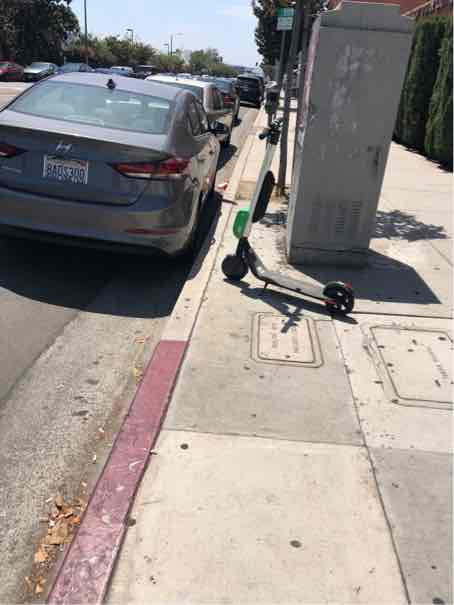scooter: (207, 98, 359, 321)
